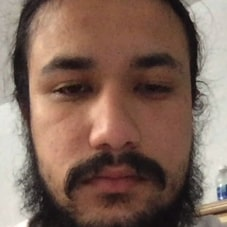drowsy: (39, 39, 184, 208)
